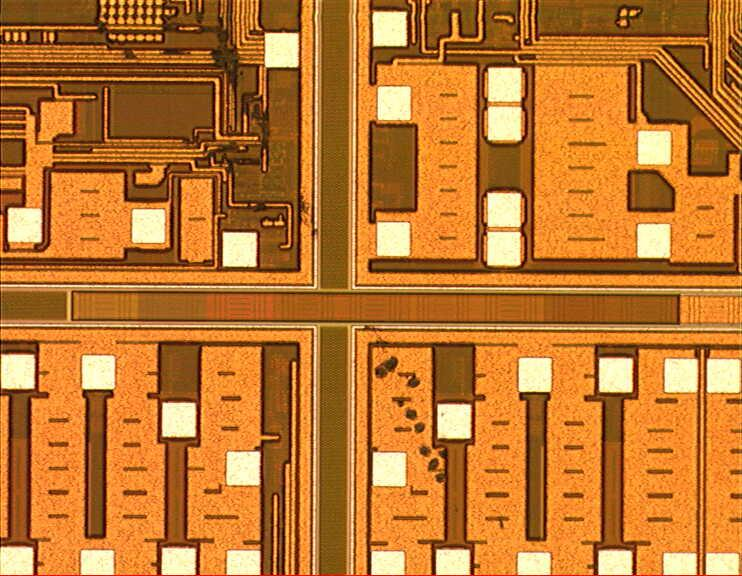SCRATCH: (67, 1, 457, 506)
